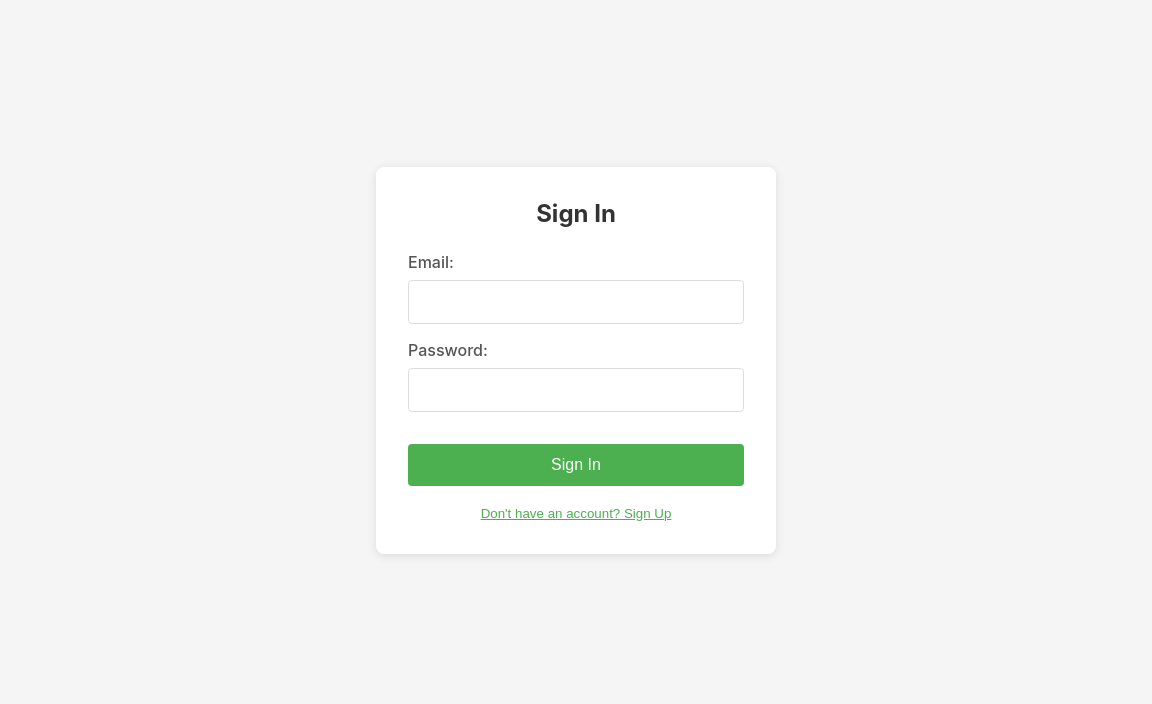
Another user's post › does not show the delete button on the post list
In the field with id "email": (576, 302) [408, 280, 744, 324], type "test@example.com"
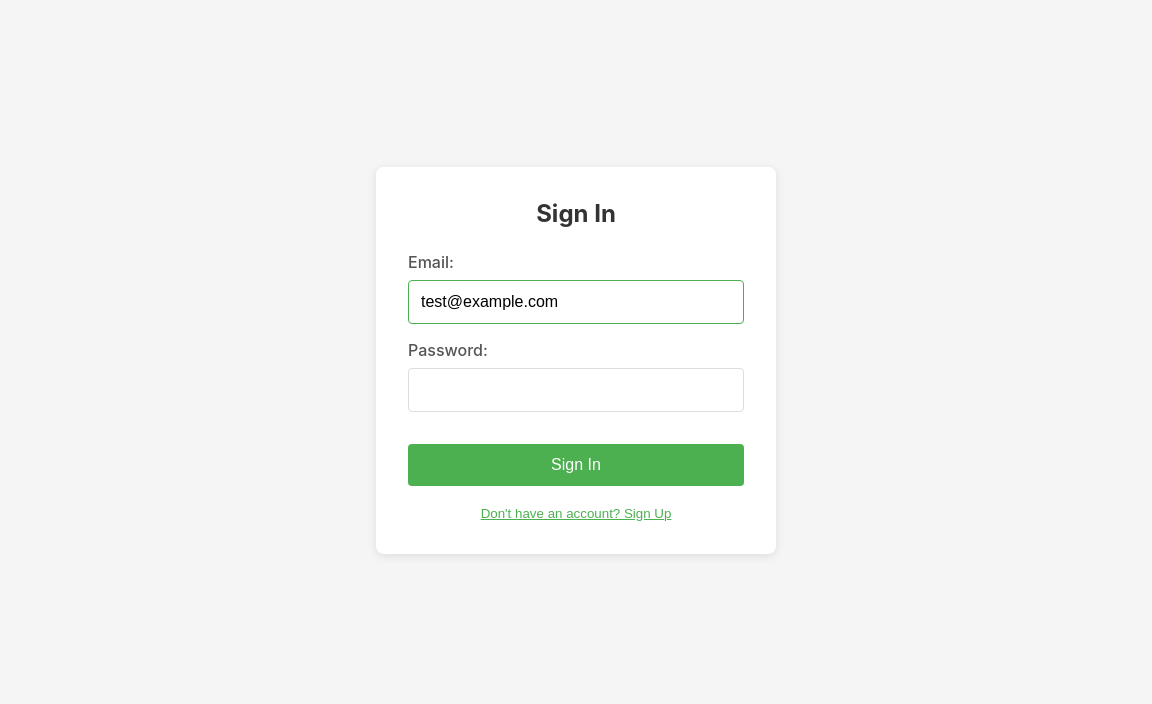
In the password field labelled "Password:": (576, 390) [408, 368, 744, 412], type "password123"
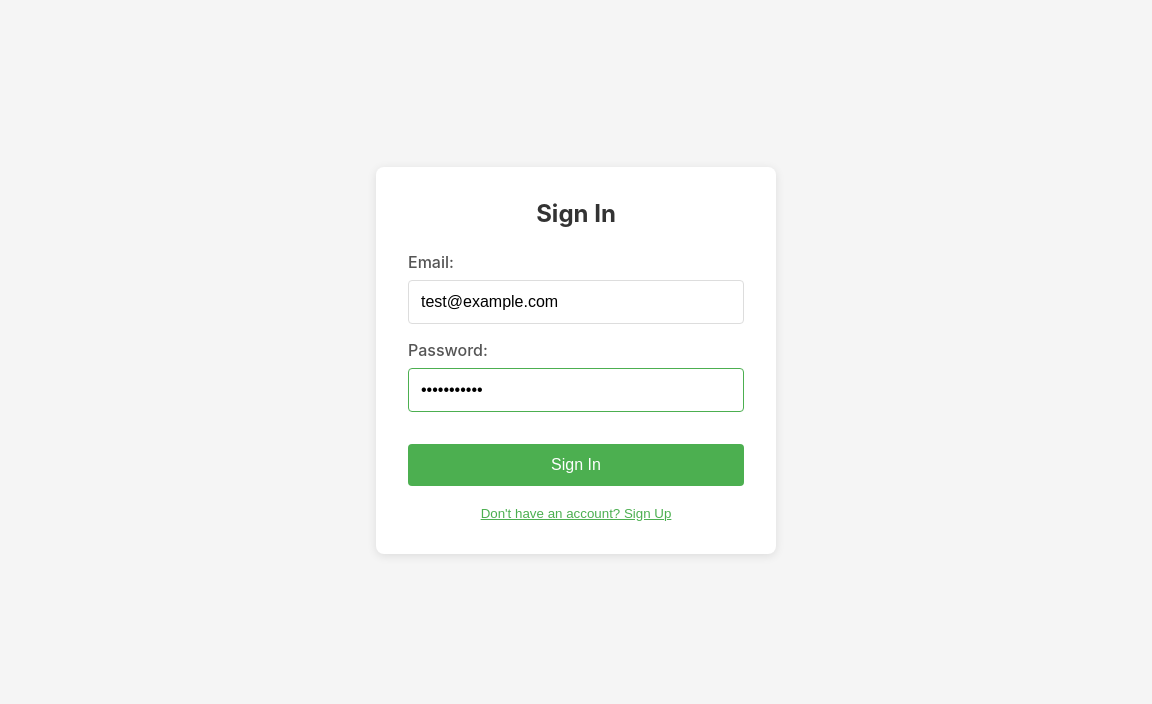
Click the submit button: (576, 465) [408, 444, 744, 486]
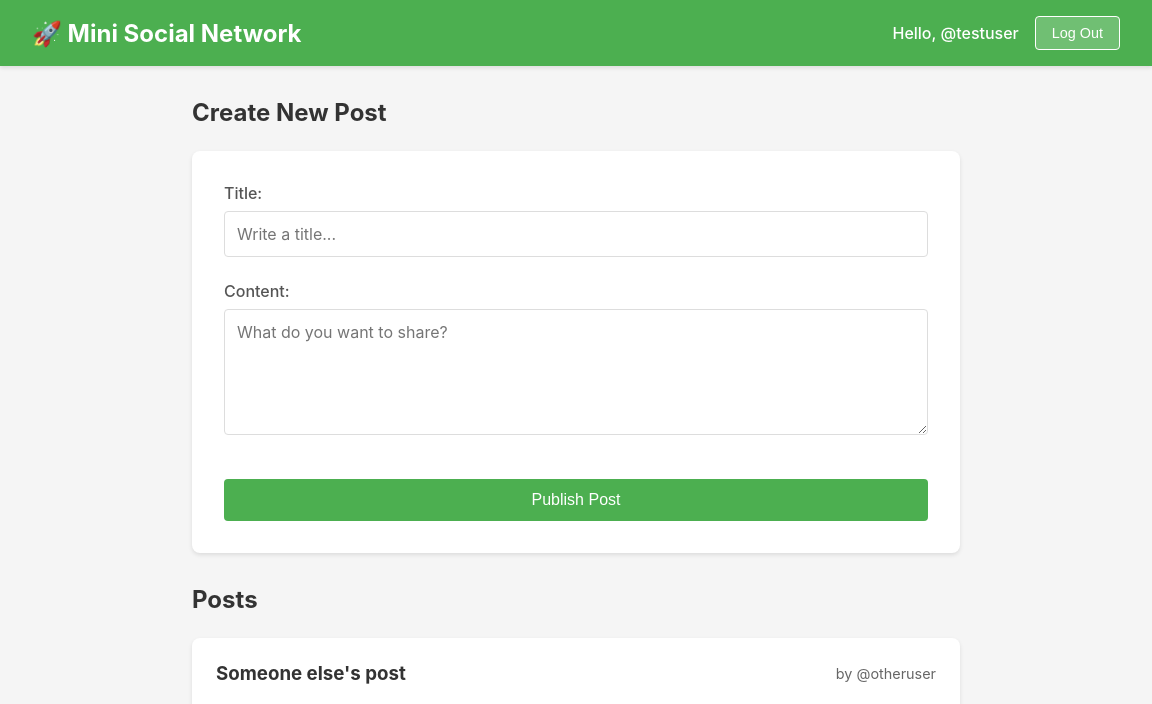
Check: the heading "Someone else's post" is shown, box [216, 662, 406, 685]
